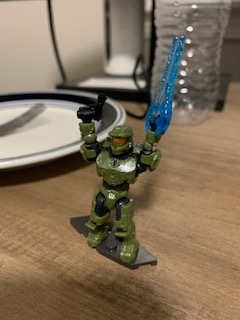chief: (74, 105, 164, 264)
pistol: (75, 93, 108, 124)
spartan: (72, 103, 162, 262)
up: (75, 108, 162, 187)
